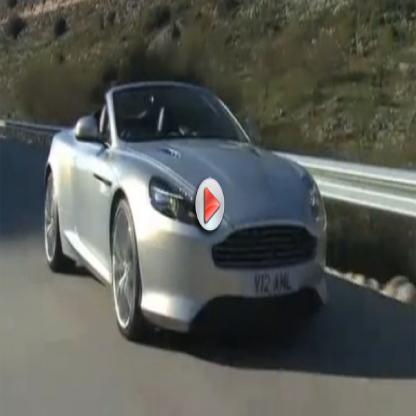Vehicle: (43, 81, 330, 345)
